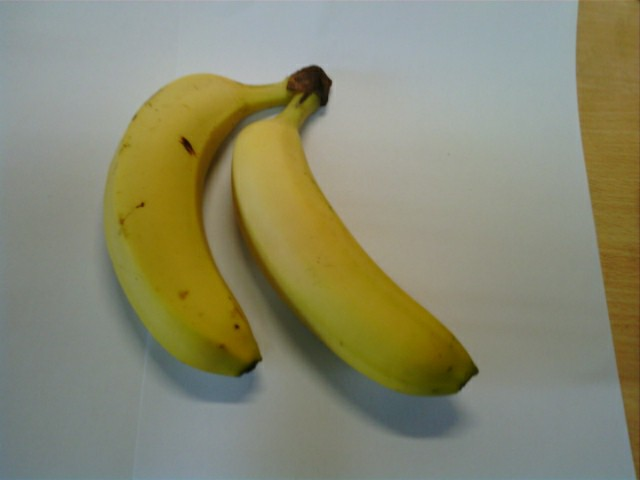fresh_banana: (230, 109, 476, 394)
normal_banana: (105, 71, 259, 378)
